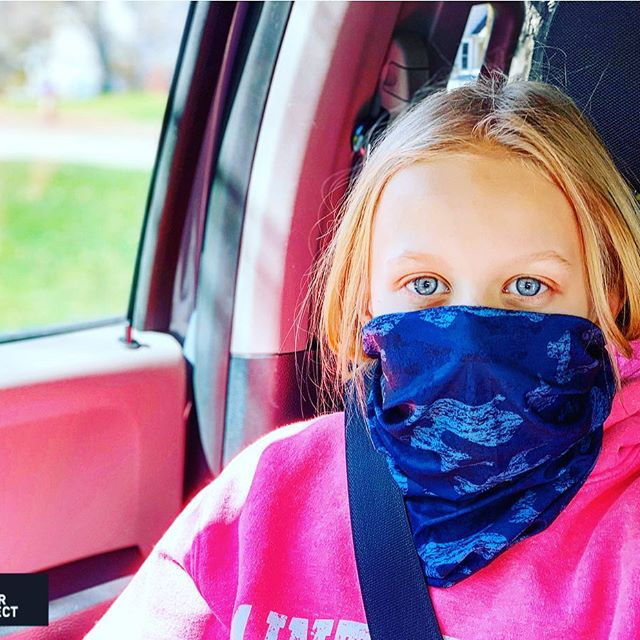homemade: (337, 306, 616, 586)
